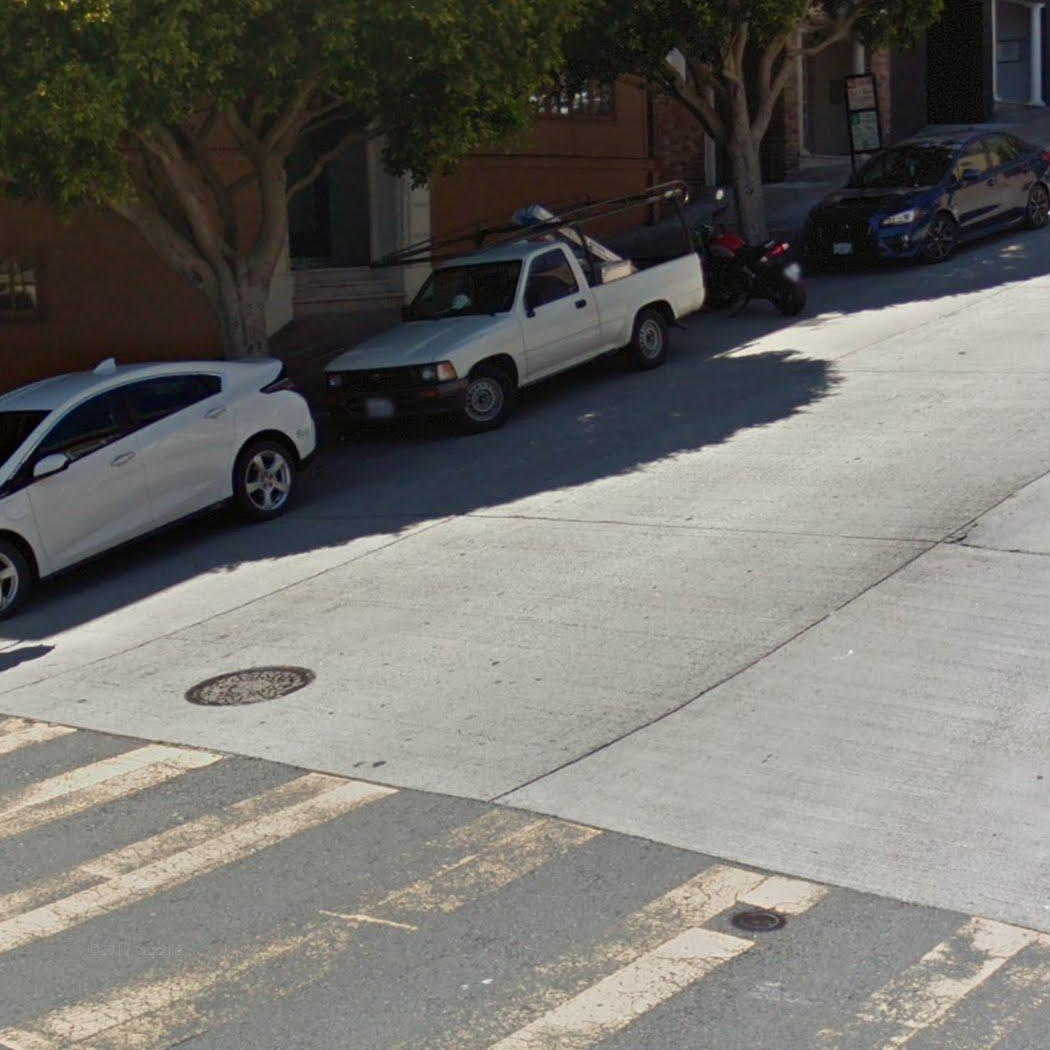2 Hour Parking: (846, 107, 883, 154)
No Parking: (843, 72, 880, 111)
